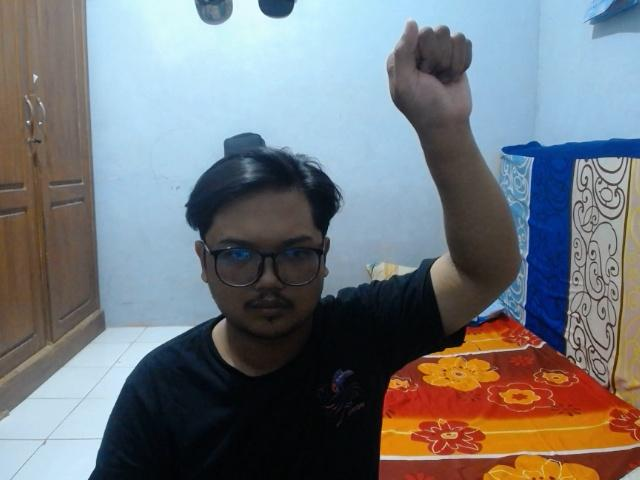Grab: (383, 14, 484, 139)
